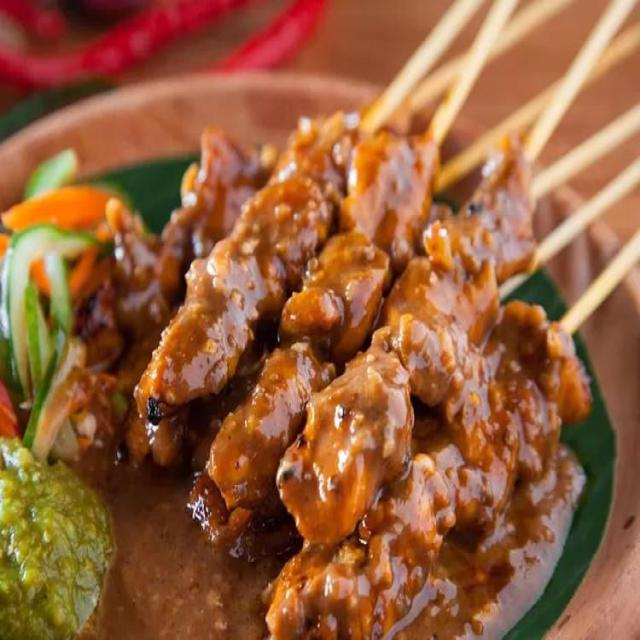Sate: (141, 1, 640, 639)
